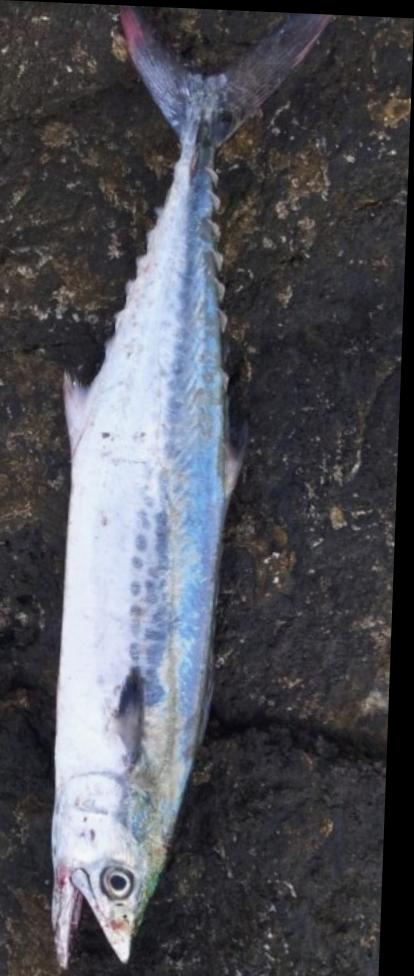fish: (59, 6, 331, 966)
